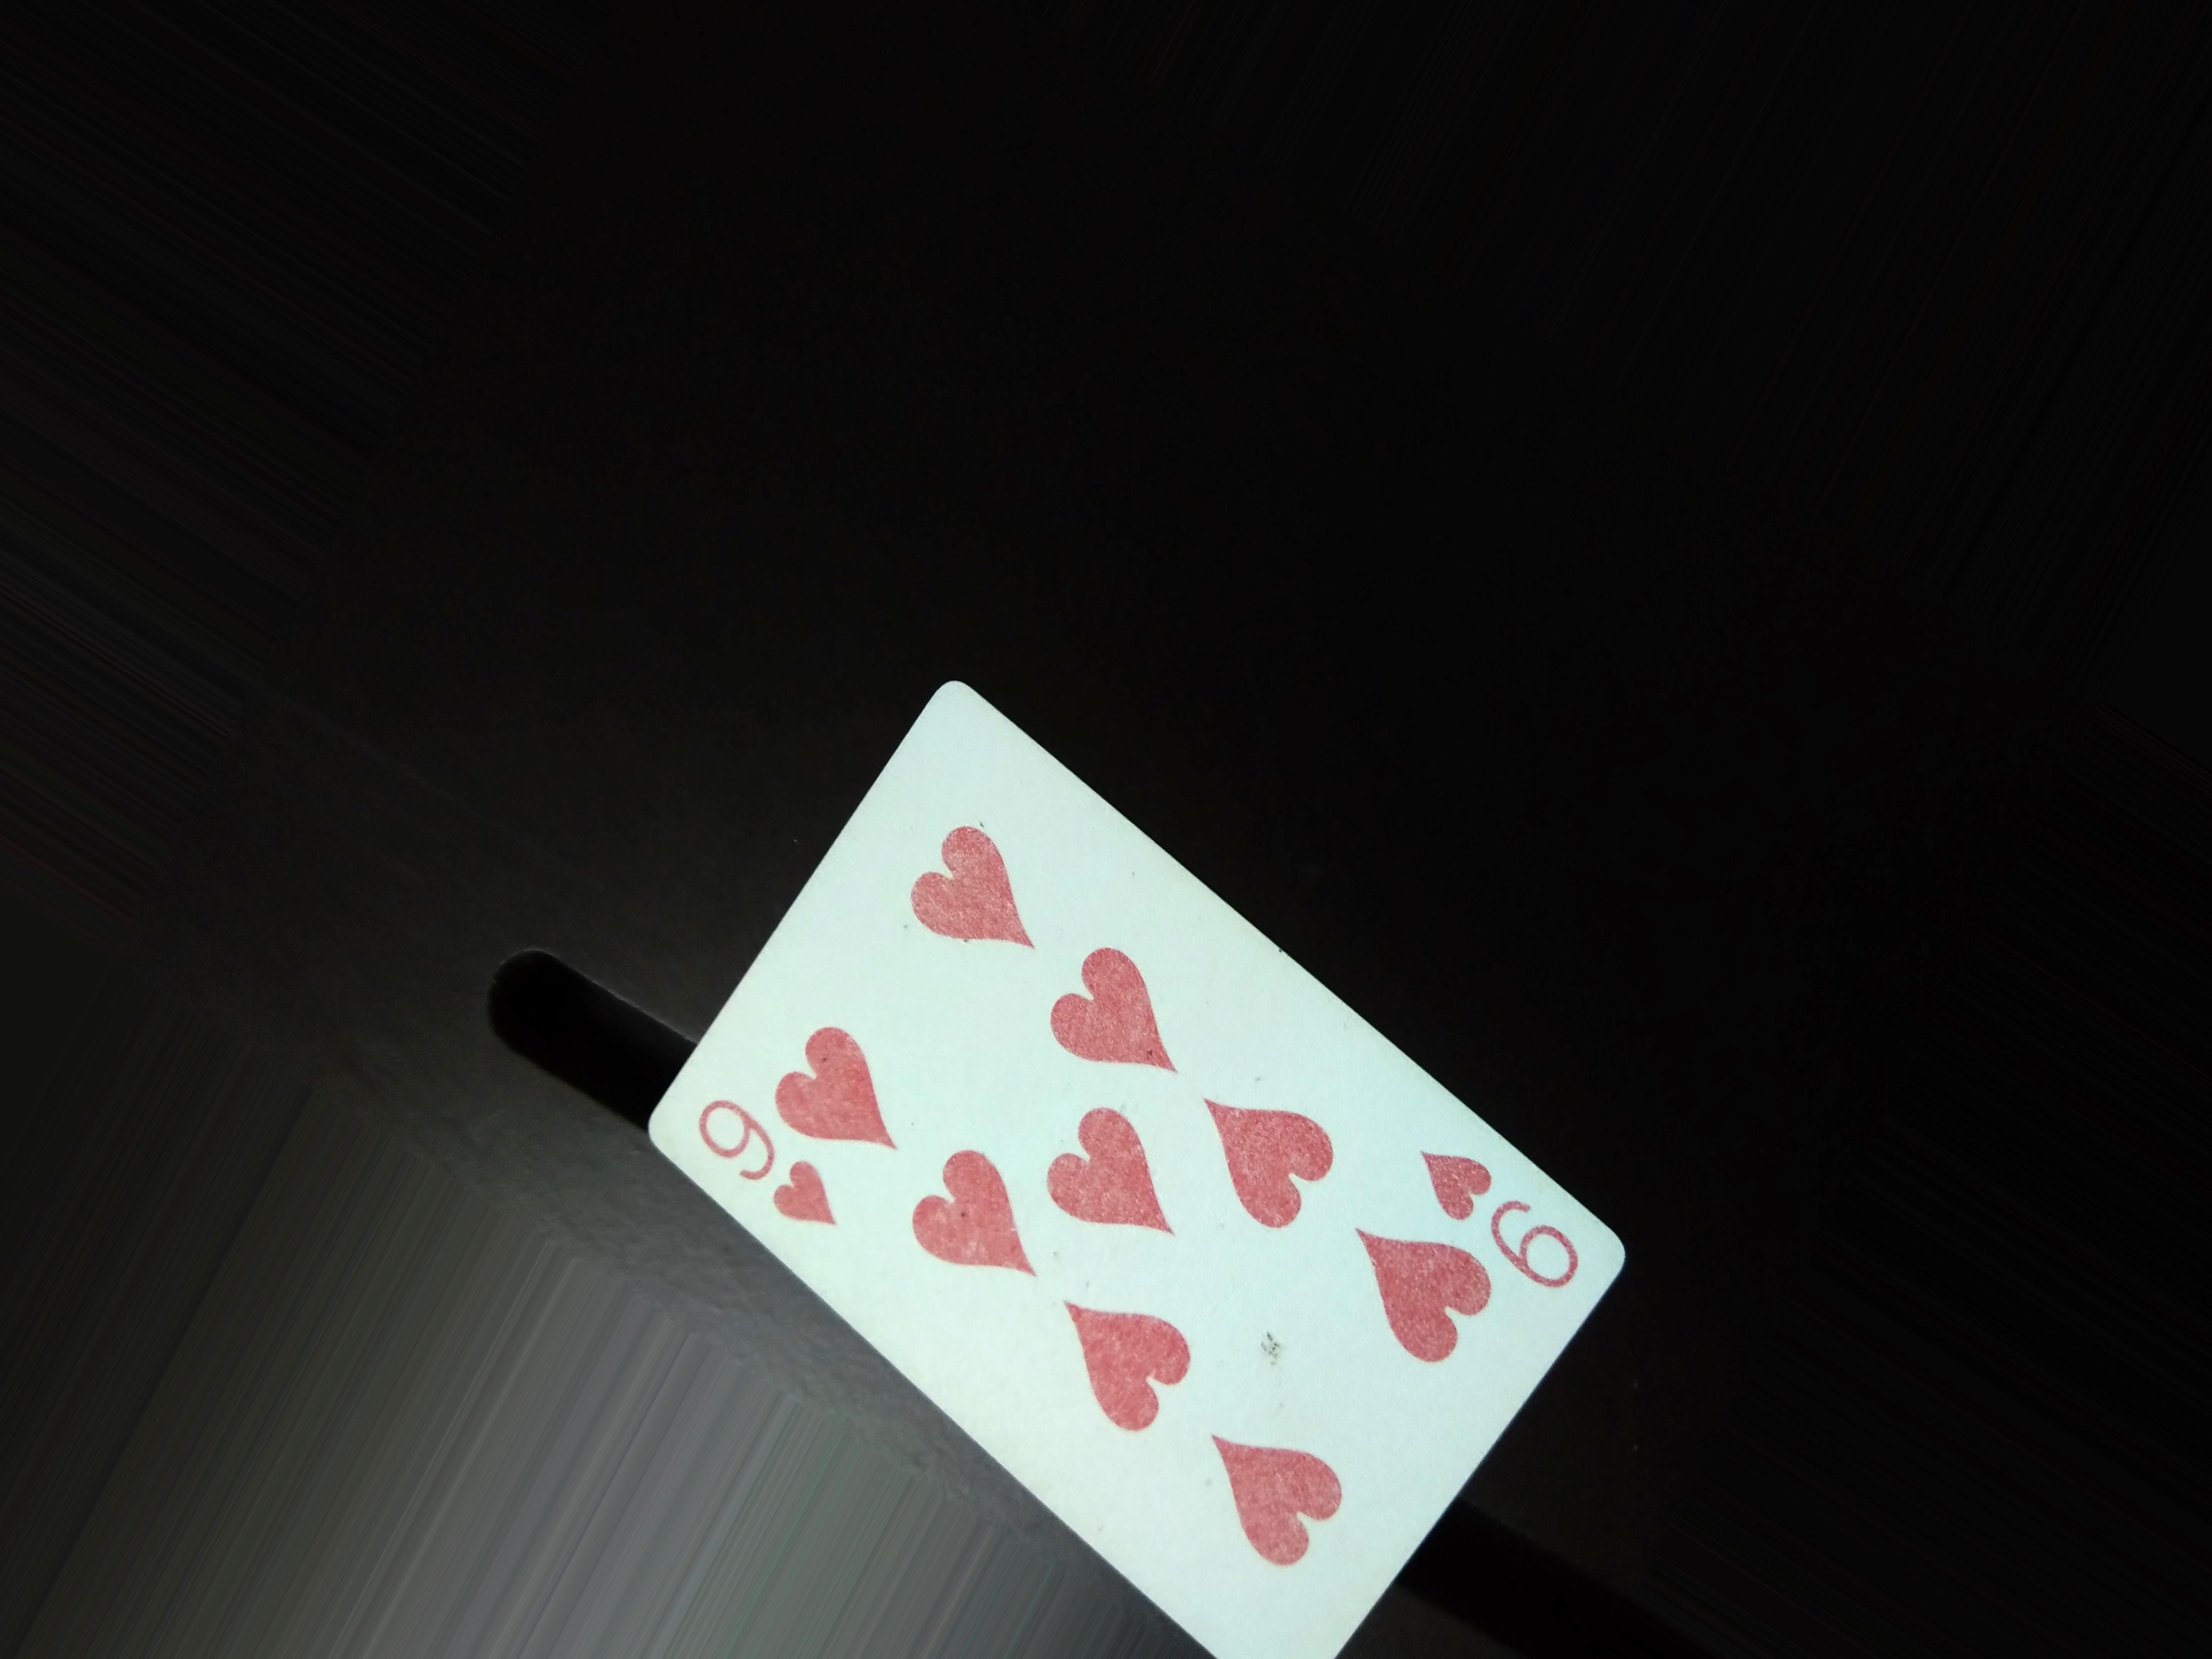9H: (686, 1091, 833, 1223)
